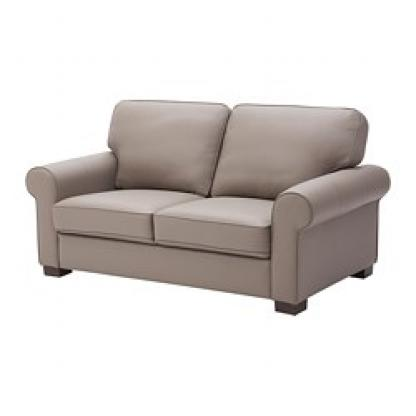Sofa: (17, 86, 391, 314)
